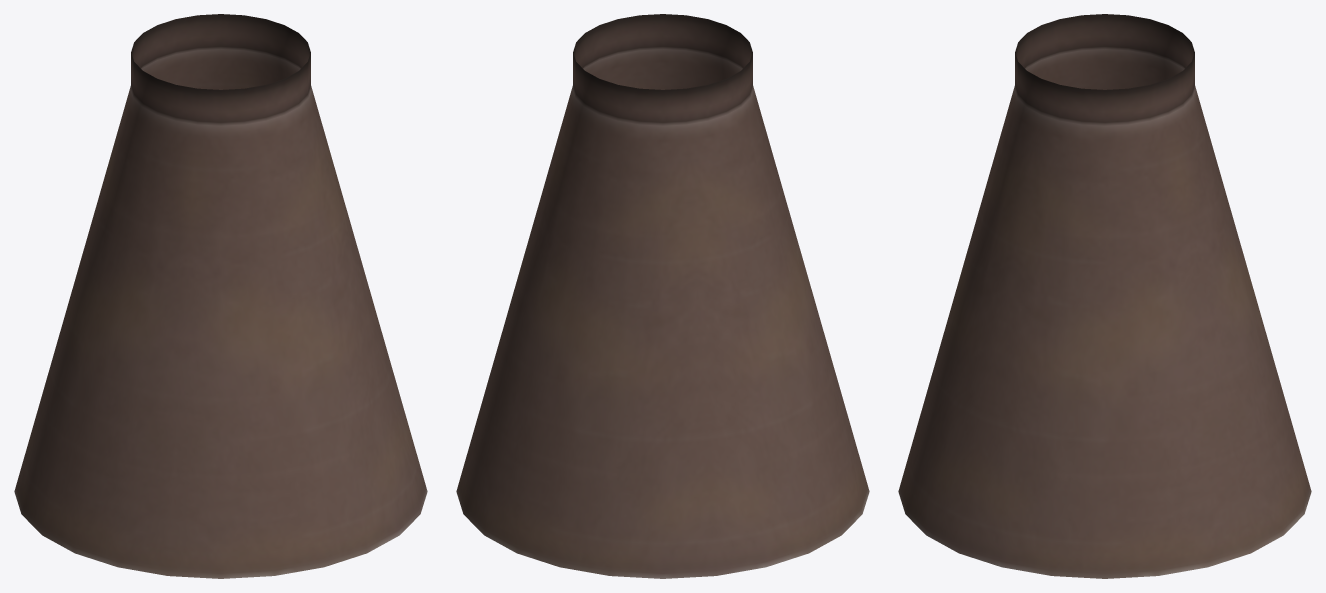
The model's file is Arrow_SRB_0_2_Nozzle.obj.
3 renders of one model, left to right at view 1: azimuth 30°, elevation 25°; view 2: azimuth 150°, elevation 25°; view 3: azimuth 270°, elevation 25°, orthographic.
Parts seen in each view (by area): view 1: Arrow_SRB_0_2_Nozzle; view 2: Arrow_SRB_0_2_Nozzle; view 3: Arrow_SRB_0_2_Nozzle.
Boxes of the visible parts, box(x1,y1,x2,y2) form: Arrow_SRB_0_2_Nozzle: box(14, 14, 427, 578); Arrow_SRB_0_2_Nozzle: box(456, 14, 869, 578); Arrow_SRB_0_2_Nozzle: box(898, 14, 1311, 578).
Size of the model in its own units: 0.575 by 0.675 by 0.575.
